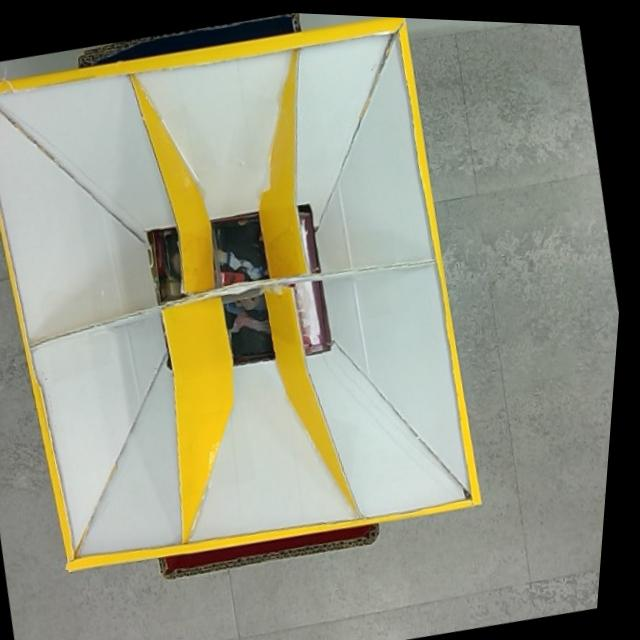box: (0, 0, 519, 615)
